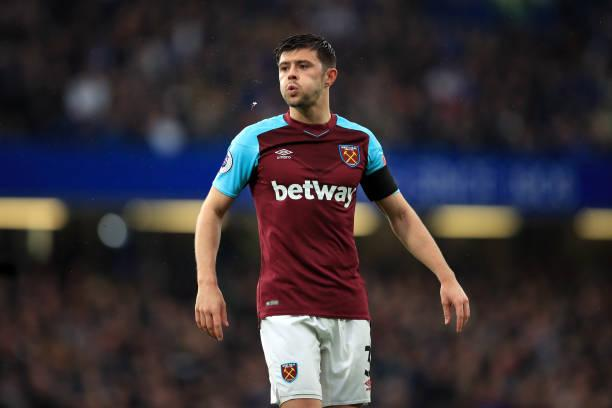Spitting: (257, 23, 356, 129)
